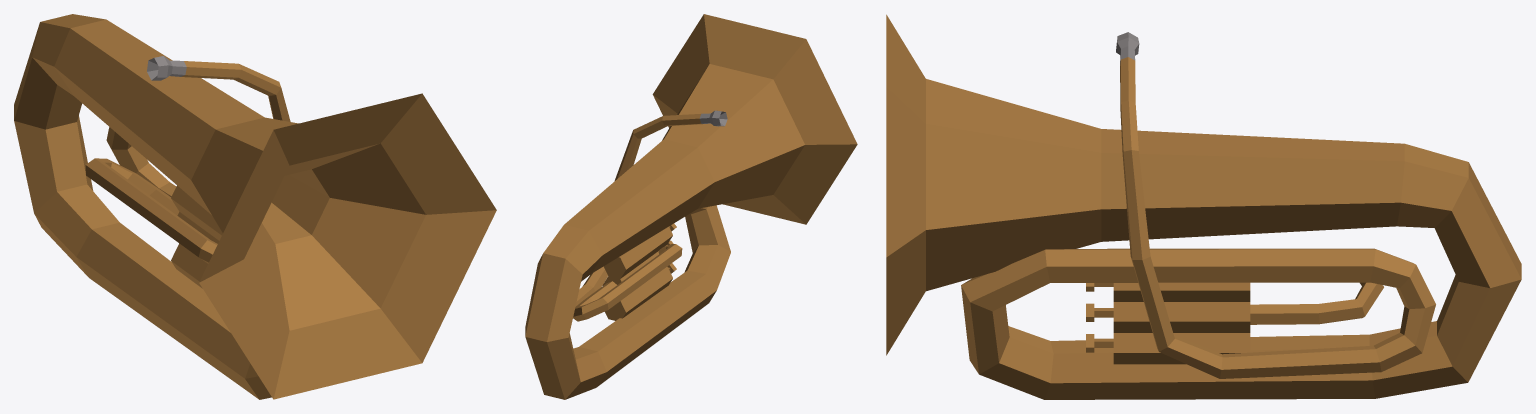
Rendered from tuba.fbx.
The picture shows the model from 3 angles, left to right: view 1: azimuth 30°, elevation 25°; view 2: azimuth 150°, elevation 25°; view 3: azimuth 270°, elevation 25°; orthographic projection. The views are drawn at different scales.
Visible parts, largest first — view 1: tuba; view 2: tuba; view 3: tuba.
Boxes of the visible parts, box(x1,y1,x2,y2) form: tuba: box(14, 14, 496, 399); tuba: box(525, 14, 857, 399); tuba: box(886, 14, 1521, 399).
Size of the model in its own units: 0.5447 by 0.5992 by 1.01.
